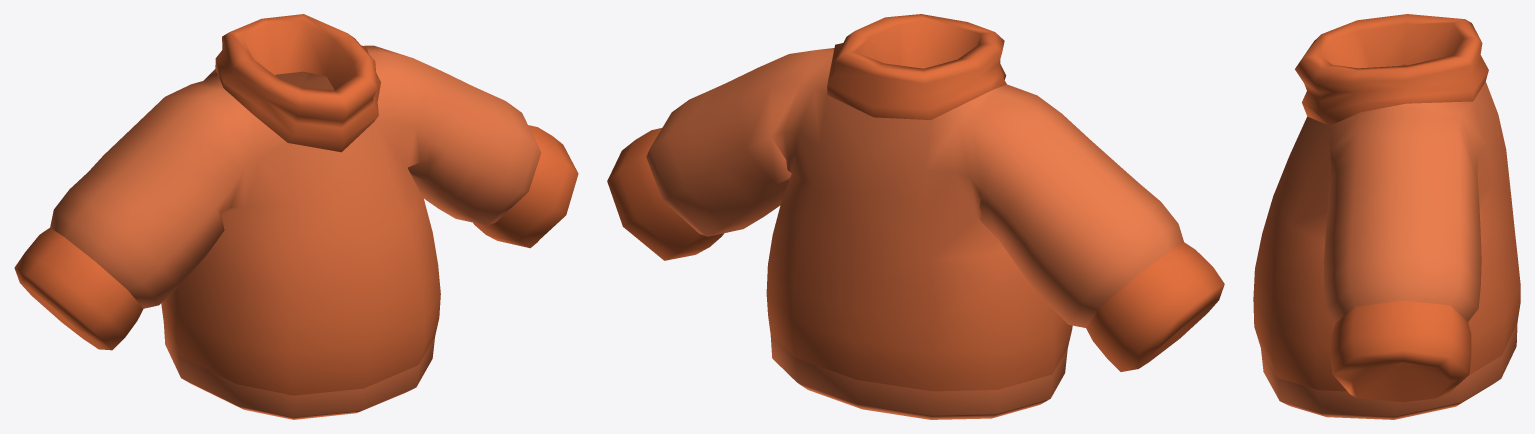
The model's file is top_A_05.fbx.
3 renders of one model, left to right at view 1: azimuth 30°, elevation 25°; view 2: azimuth 150°, elevation 25°; view 3: azimuth 270°, elevation 25°, orthographic. The views are drawn at different scales.
Visible parts, largest first — view 1: Top_59; view 2: Top_59; view 3: Top_59.
Part boxes in pixels (x1,y1,x2,y2): Top_59: (14,14,578,419); Top_59: (607,14,1224,419); Top_59: (1253,14,1520,419).
Size of the model in its own units: 90.5 by 52.42 by 37.16.
